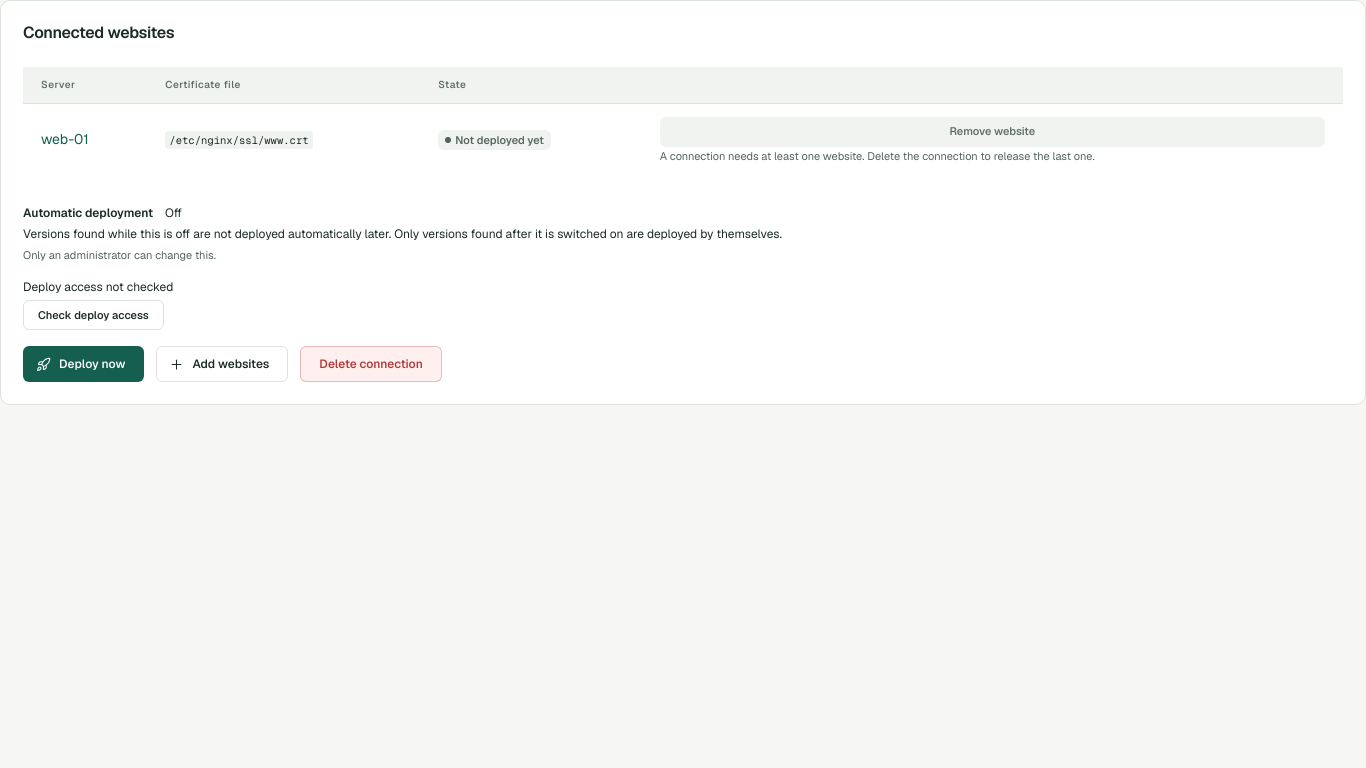
Test case: BindingPanel fix round › says in the delete dialog that deployments in the queue stop and a running one finishes
This screenshot has width=1366, height=768.
Click the button "Delete connection" at {"x": 371, "y": 364}, box [300, 346, 442, 382]
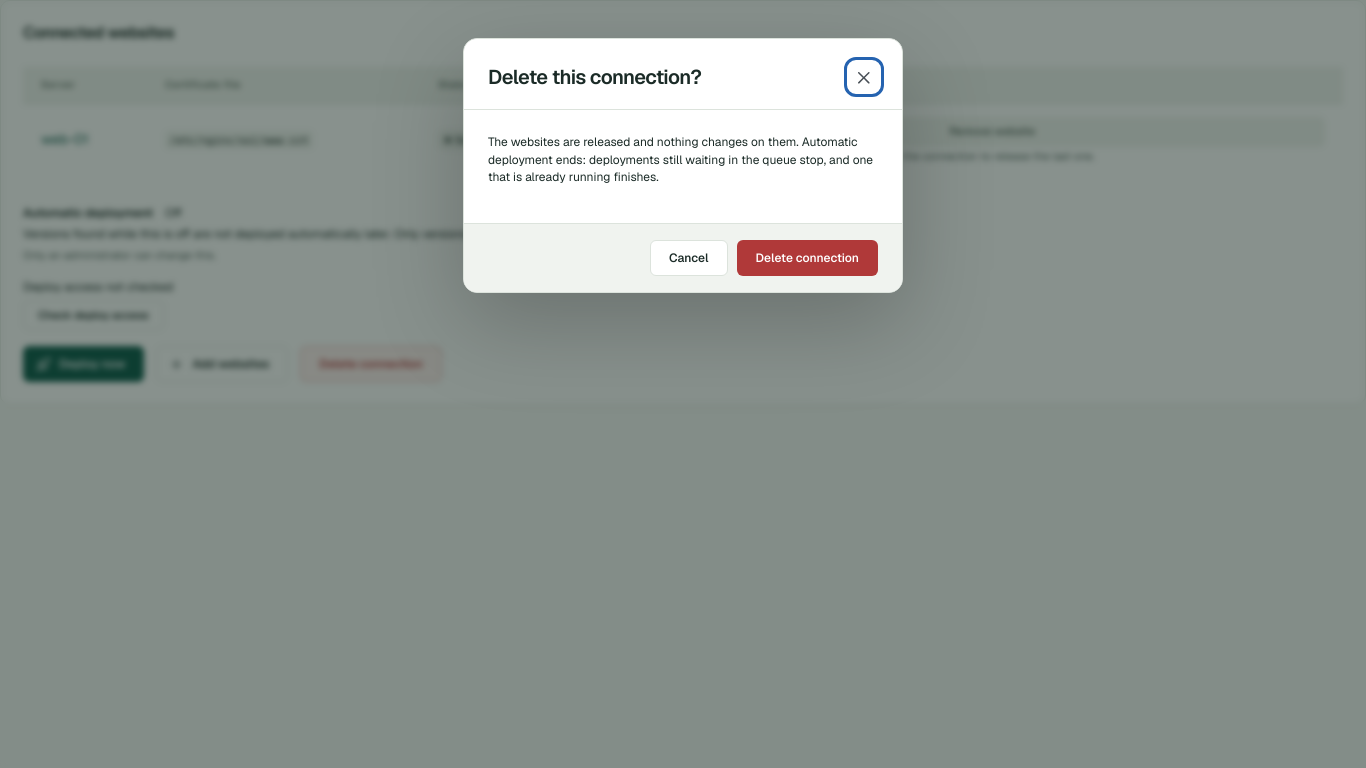
Now the dialog shows "deployments still waiting in the queue stop, and one that is already running finishes", box [488, 134, 873, 185]
